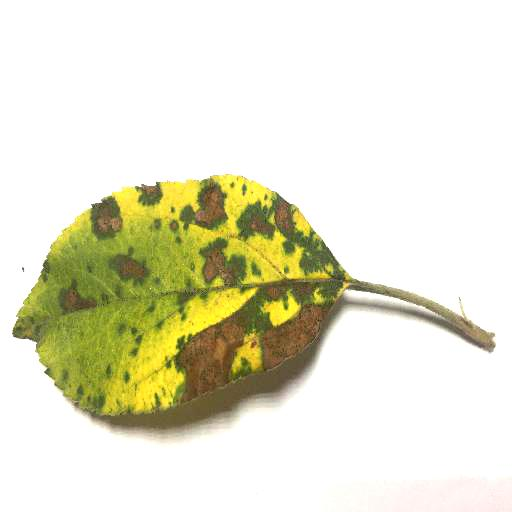Brown_Spot: (170, 310, 329, 399), (191, 188, 226, 228), (198, 243, 232, 284), (257, 281, 313, 300), (114, 253, 148, 283), (273, 201, 298, 239), (54, 291, 89, 309), (91, 211, 115, 236), (243, 216, 264, 237), (141, 182, 158, 205)
